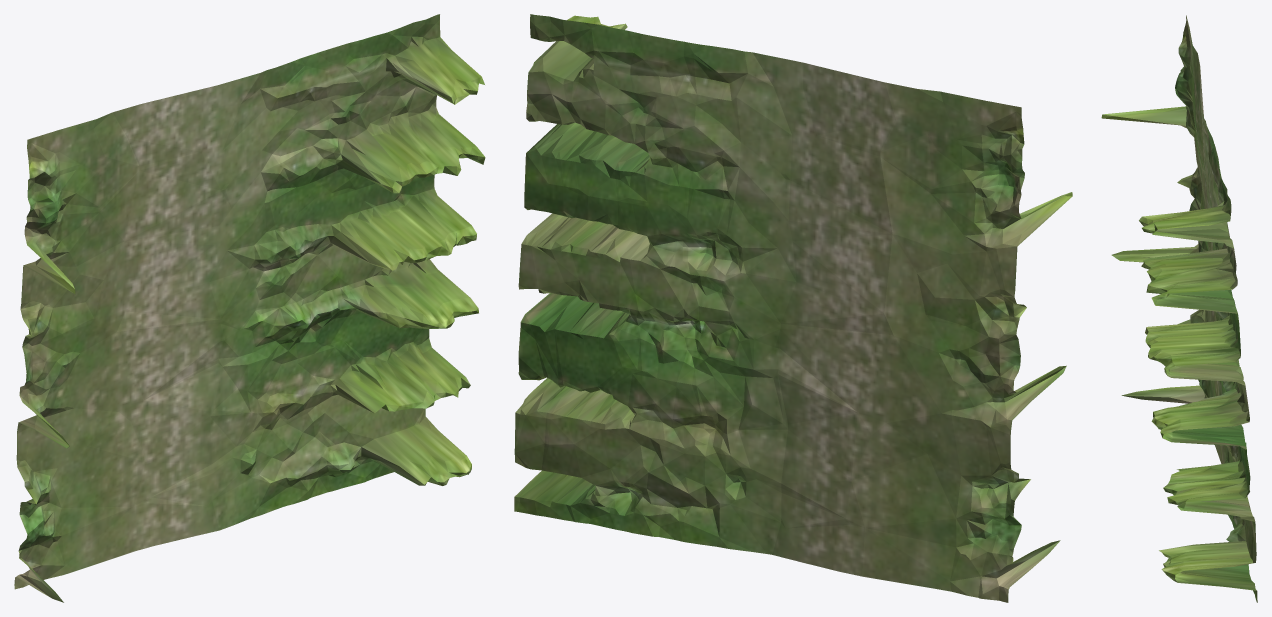
Rendered from map_20_10.obj.
The picture shows the model from 3 angles, left to right: view 1: azimuth 30°, elevation 25°; view 2: azimuth 150°, elevation 25°; view 3: azimuth 270°, elevation 25°; orthographic projection. The views are drawn at different scales.
Parts seen in each view (by area): view 1: grp1; view 2: grp1; view 3: grp1.
Boxes of the visible parts, box(x1,y1,x2,y2) form: grp1: box(14, 14, 485, 602); grp1: box(514, 14, 1072, 602); grp1: box(1101, 15, 1257, 602).
Bounding box in the file's own units: 10 × 10 × 3.52.
Materials: 1 (1 with a texture image).
